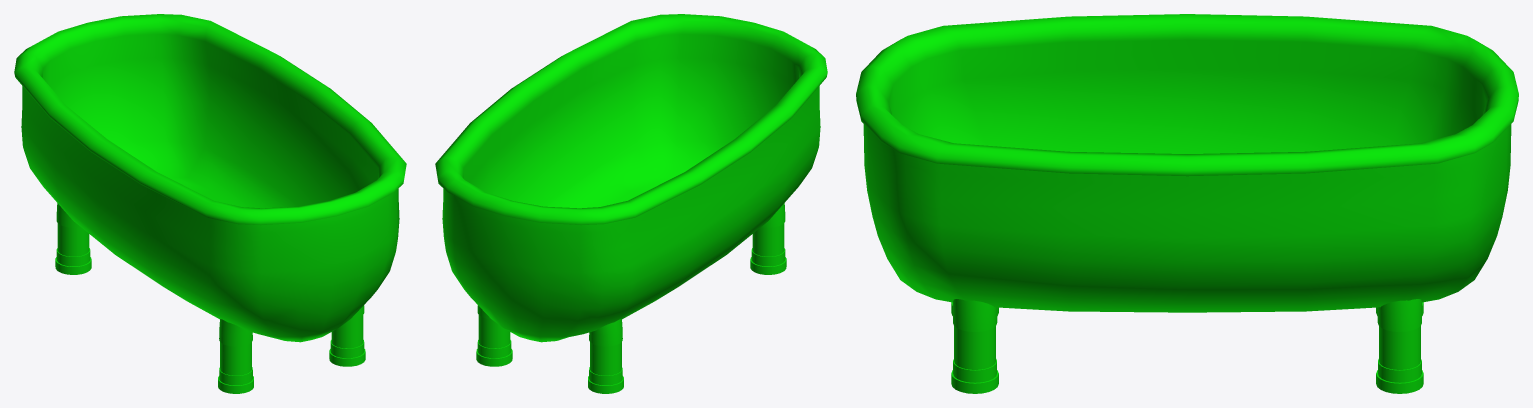
Rendered from PateintTub.fbx.
3 renders of one model, left to right at view 1: azimuth 30°, elevation 25°; view 2: azimuth 150°, elevation 25°; view 3: azimuth 270°, elevation 25°, orthographic. The views are drawn at different scales.
Parts seen in each view (by area): view 1: Tub; view 2: Tub; view 3: Tub.
Boxes of the visible parts, x1,y1,x2,y2 form: Tub: (14, 14, 406, 393); Tub: (435, 14, 827, 393); Tub: (856, 14, 1518, 393).
Size of the model in its own units: 1.21 by 0.9643 by 2.21.
